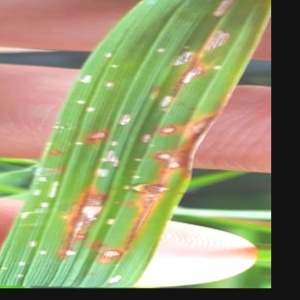Brown_Spot: (170, 108, 219, 177), (87, 226, 134, 272), (67, 188, 110, 236), (178, 58, 228, 96), (78, 122, 118, 155), (165, 37, 198, 76), (196, 28, 235, 52), (152, 114, 180, 143), (158, 84, 182, 116), (207, 0, 246, 19), (151, 137, 174, 167), (145, 171, 170, 197), (166, 151, 185, 177), (101, 207, 120, 231)
